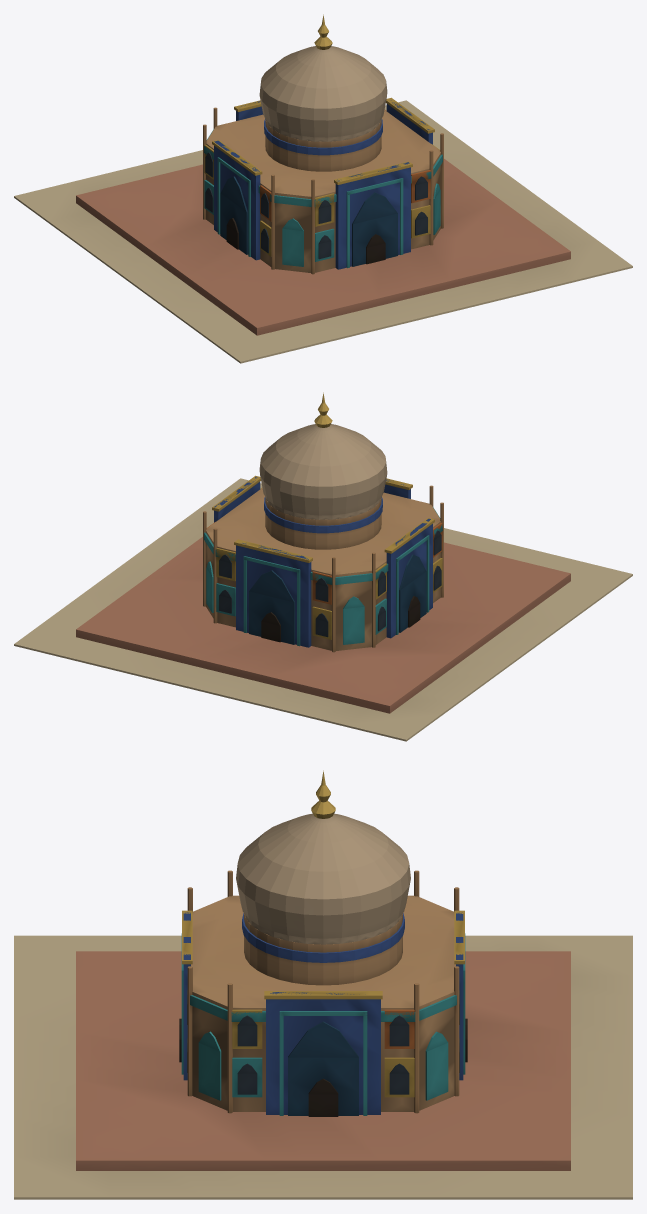
Rendered from chini-ka-rauza.glb.
3 renders of one model, top to bottom at view 1: azimuth 30°, elevation 25°; view 2: azimuth 150°, elevation 25°; view 3: azimuth 270°, elevation 25°, orthographic. The views are drawn at different scales.
Parts seen in each view (by area): view 1: p0_terrace, p1_tiles, p2_dome; view 2: p0_terrace, p1_tiles, p2_dome; view 3: p0_terrace, p1_tiles, p2_dome.
Boxes of the visible parts, <box> form: p0_terrace: <box>14,100,632,363</box>; p1_tiles: <box>203,97,443,274</box>; p2_dome: <box>259,14,387,171</box>; p0_terrace: <box>14,478,632,741</box>; p1_tiles: <box>203,475,443,652</box>; p2_dome: <box>259,392,387,549</box>; p0_terrace: <box>14,895,632,1199</box>; p1_tiles: <box>179,870,467,1116</box>; p2_dome: <box>236,770,410,985</box>.
Bounding box in the file's own units: 70 × 37.25 × 70.
